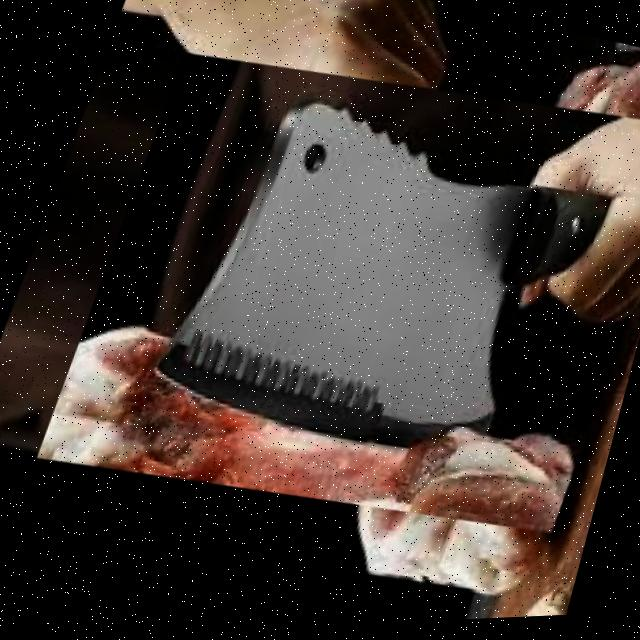knife: (142, 62, 621, 501)
